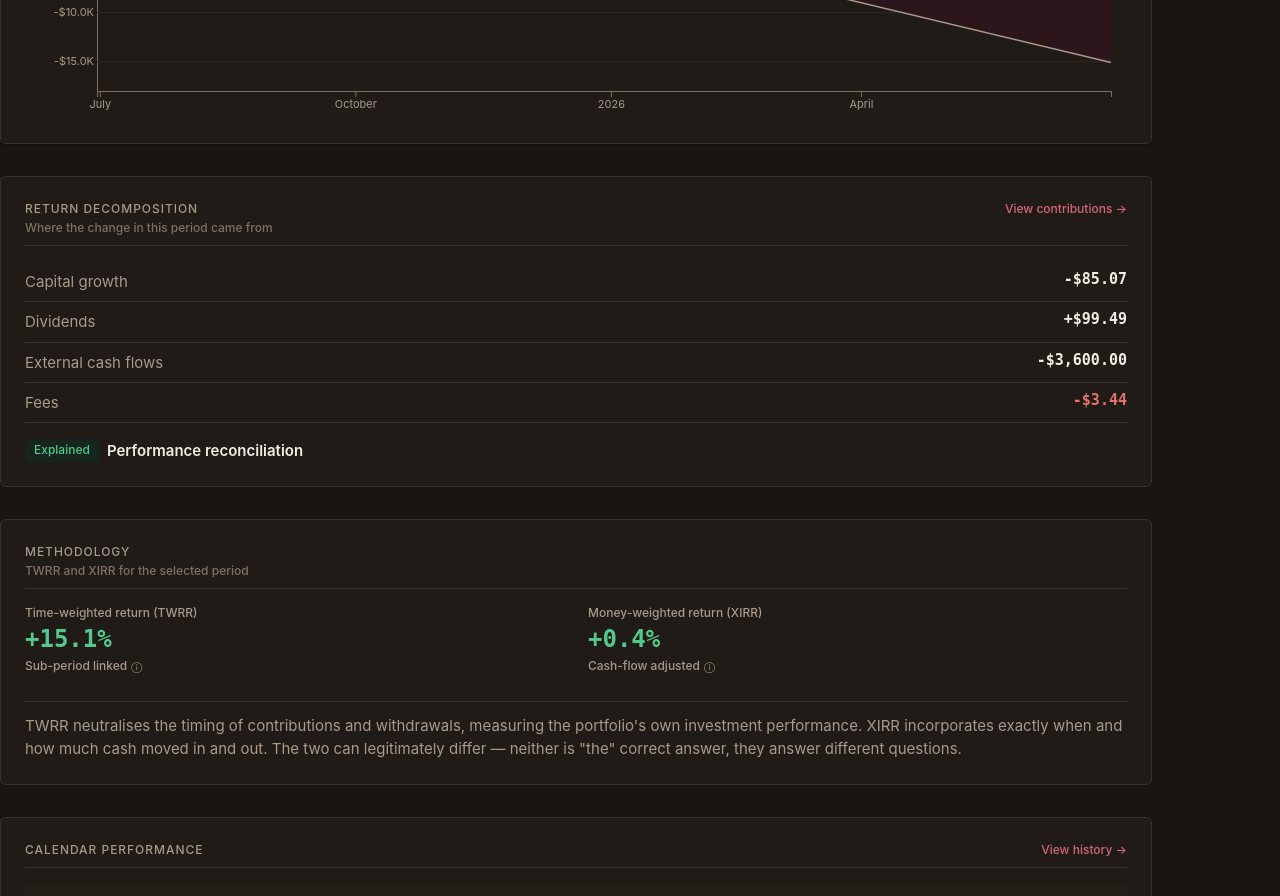
Test: PerformancePage: return decomposition › discloses residual and tolerance on demand
The width and height of the screenshot is (1280, 896).
(page scrolled)
Click the text "Performance reconciliation" at [205, 451], box top-left (107, 439), bottom-right (303, 462)
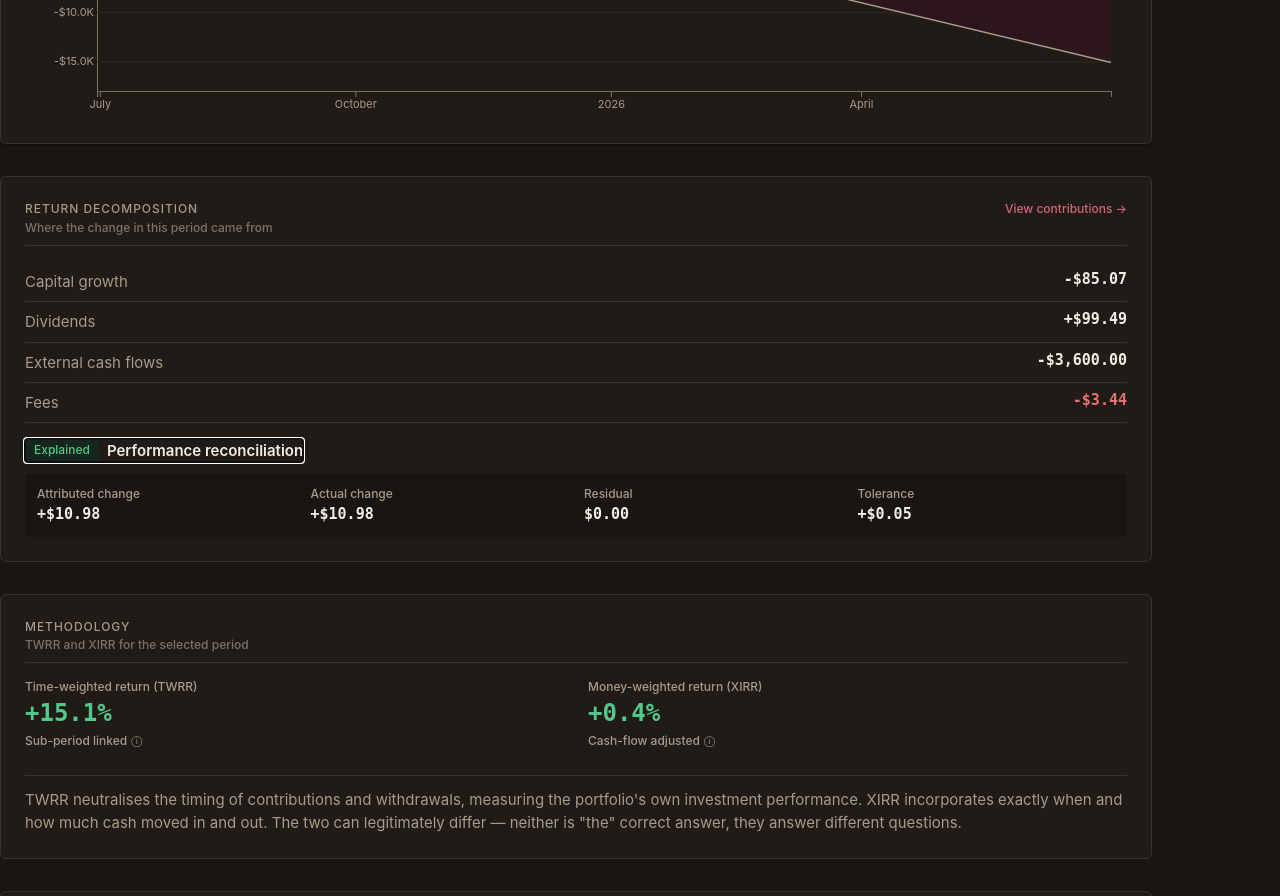
Expected: the text "Residual" is shown, top-left (584, 486), bottom-right (633, 501)
Expected: the text "Tolerance" is shown, top-left (858, 486), bottom-right (914, 501)
